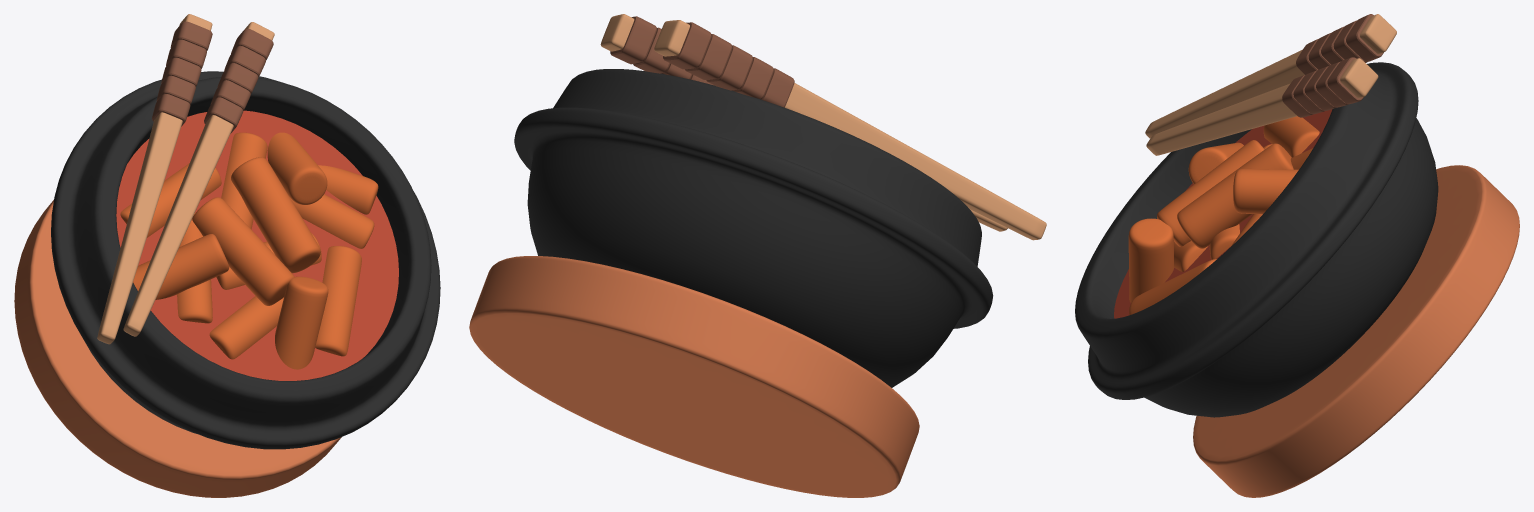
The model's file is tteokbokki.glb.
3 renders of one model, left to right at view 1: azimuth 30°, elevation 25°; view 2: azimuth 150°, elevation 25°; view 3: azimuth 270°, elevation 25°, orthographic. The views are drawn at different scales.
Visible parts, largest first — view 1: Sphere.005, Cylinder.065, Circle.002, Cube.028, Cube.026, Cylinder.074, Cylinder.078, Cylinder.073, Cylinder.068, Cube.029, Cube.027, Cylinder.075 (+8 smaller); view 2: Sphere.005, Cylinder.065, Cube.028, Cube.029, Cube.027, Cube.026; view 3: Sphere.005, Cylinder.065, Cube.026, Cube.028, Cylinder.074, Cylinder.073, Cube.027, Cube.029, Cylinder.077, Cylinder.078, Circle.002, Cylinder.071 (+4 smaller).
Boxes of the visible parts, <box> form: Sphere.005: <box>51,71,440,449</box>; Cylinder.065: <box>14,200,341,497</box>; Circle.002: <box>116,110,398,380</box>; Cube.028: <box>97,14,212,344</box>; Cube.026: <box>123,22,274,336</box>; Cylinder.074: <box>231,157,320,273</box>; Cylinder.078: <box>192,197,294,305</box>; Cylinder.073: <box>275,276,328,369</box>; Cylinder.068: <box>315,246,361,356</box>; Cube.029: <box>152,21,212,126</box>; Cube.027: <box>204,28,273,133</box>; Cylinder.075: <box>133,234,229,299</box>; Sphere.005: <box>514,69,993,387</box>; Cylinder.065: <box>469,256,919,497</box>; Cube.028: <box>654,20,1046,240</box>; Cube.029: <box>663,22,794,107</box>; Cube.027: <box>610,16,713,85</box>; Cube.026: <box>600,14,1007,231</box>; Sphere.005: <box>1075,62,1438,417</box>; Cylinder.065: <box>1193,165,1519,497</box>; Cube.026: <box>1146,58,1378,155</box>; Cube.028: <box>1145,14,1396,138</box>; Cylinder.074: <box>1177,143,1293,248</box>; Cylinder.073: <box>1128,218,1174,302</box>; Cube.027: <box>1282,57,1363,117</box>; Cube.029: <box>1296,14,1383,74</box>; Cylinder.077: <box>1233,168,1298,213</box>; Cylinder.078: <box>1157,140,1264,246</box>; Circle.002: <box>1114,109,1332,318</box>; Cylinder.071: <box>1263,116,1319,157</box>.
Size of the model in its own units: 2.64 by 2.92 by 2.57.
